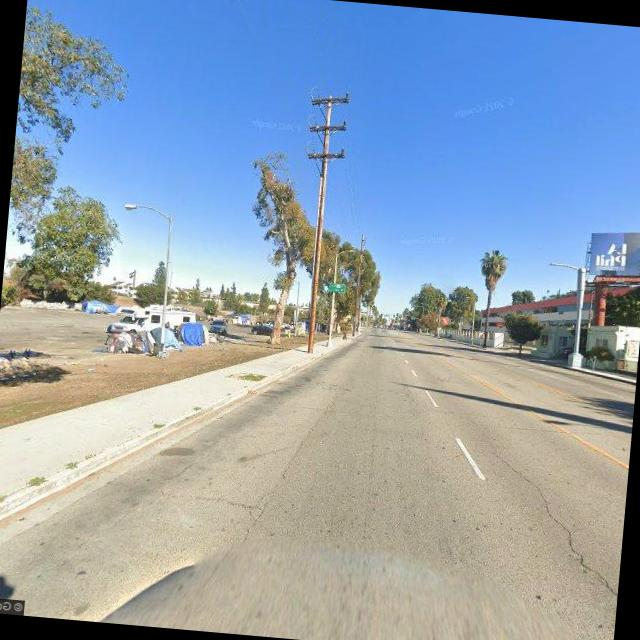pothole: (482, 450, 628, 631)
